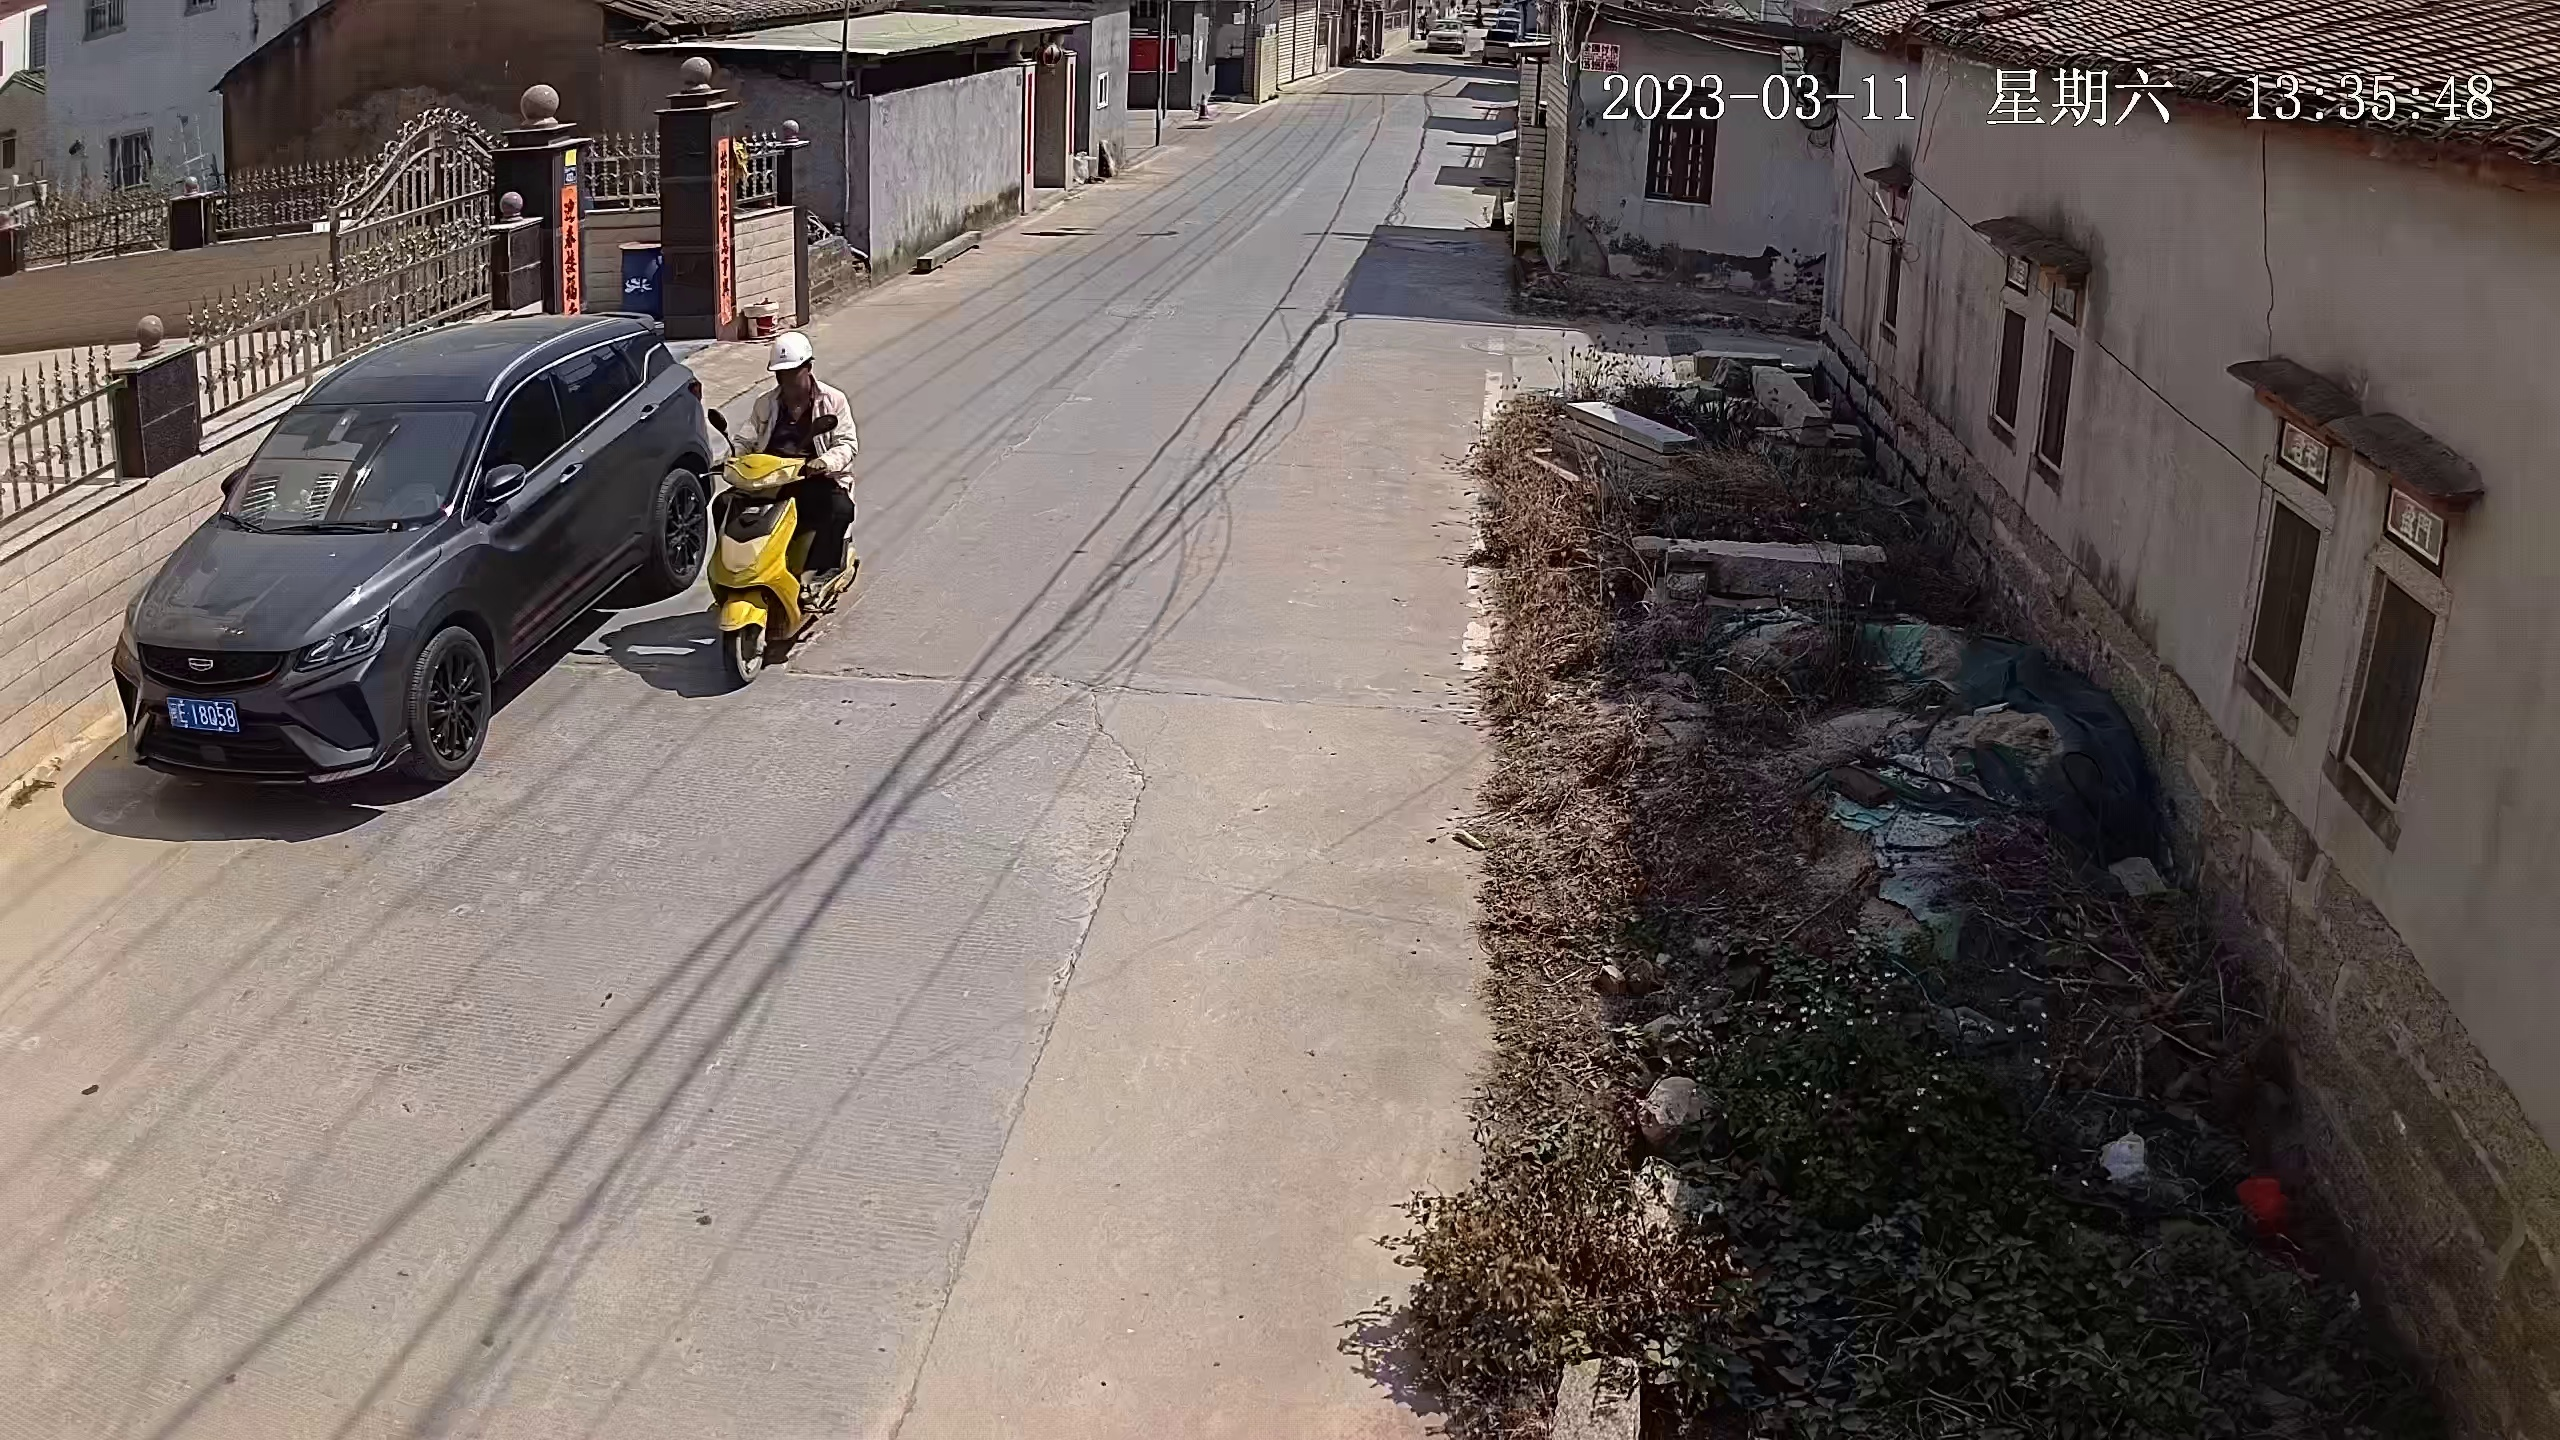motorcycle: (703, 324, 874, 693)
sedan: (1482, 19, 1519, 69), (1424, 12, 1468, 53)
suv: (123, 302, 705, 802)
